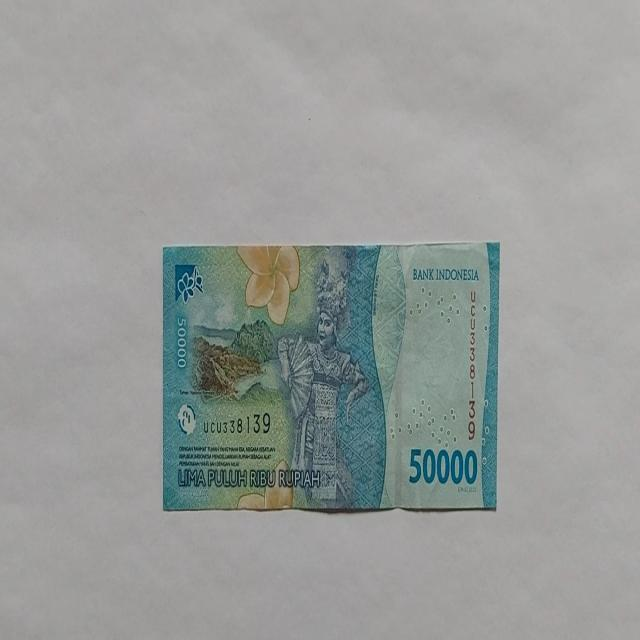lima puluh ribu rupiah: (162, 242, 500, 513), (276, 256, 369, 508)
